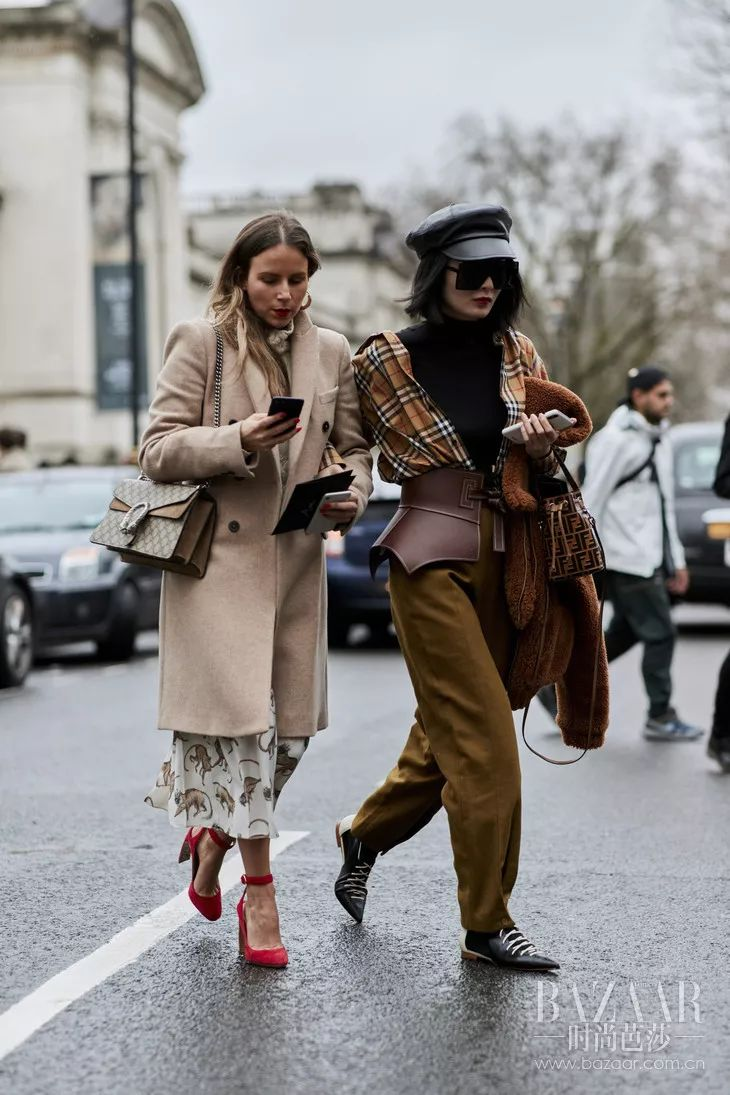up: (123, 206, 358, 993)
